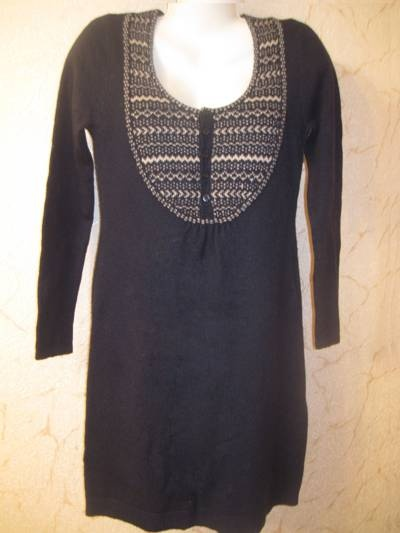Dress: (19, 16, 362, 529)
